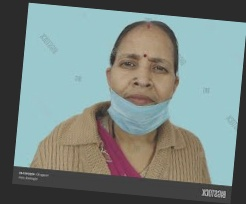mask_weared_incorrect: (109, 27, 176, 131)
